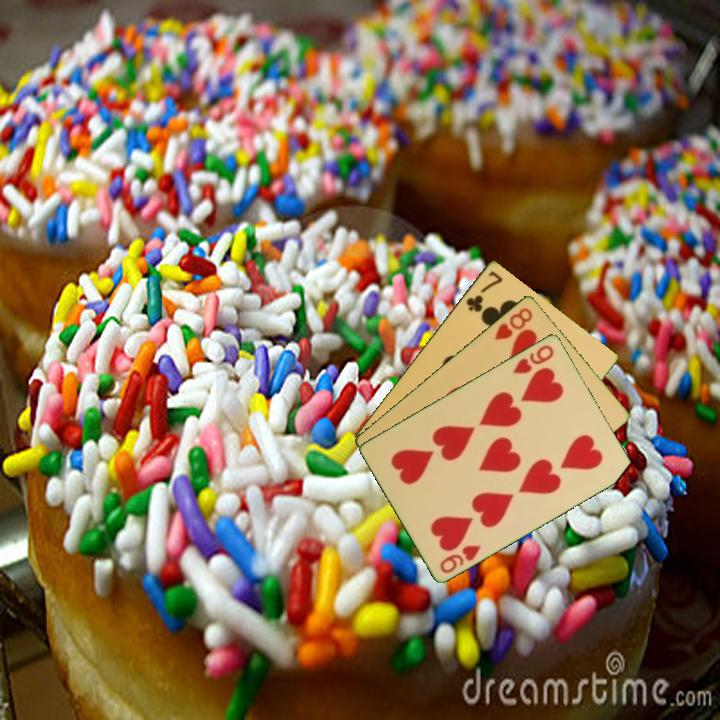7c: (462, 267, 506, 315)
8h: (491, 304, 536, 343)
9h: (509, 341, 557, 376), (436, 541, 484, 576)
